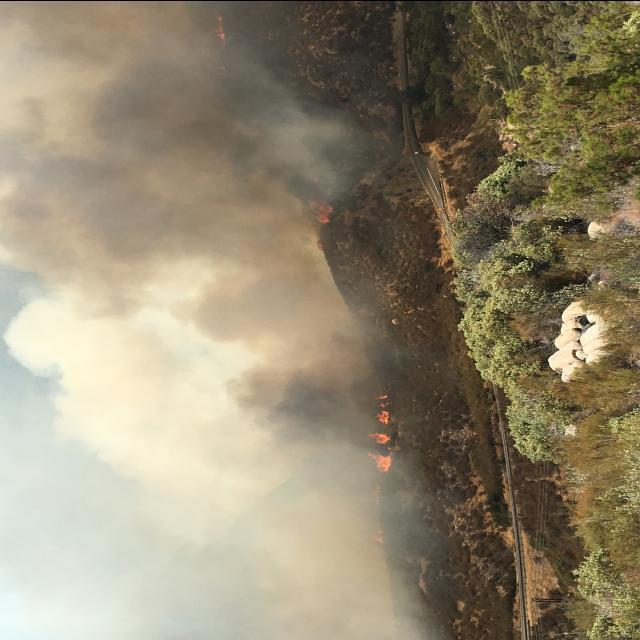Fire: (364, 388, 396, 476), (304, 193, 338, 246)
